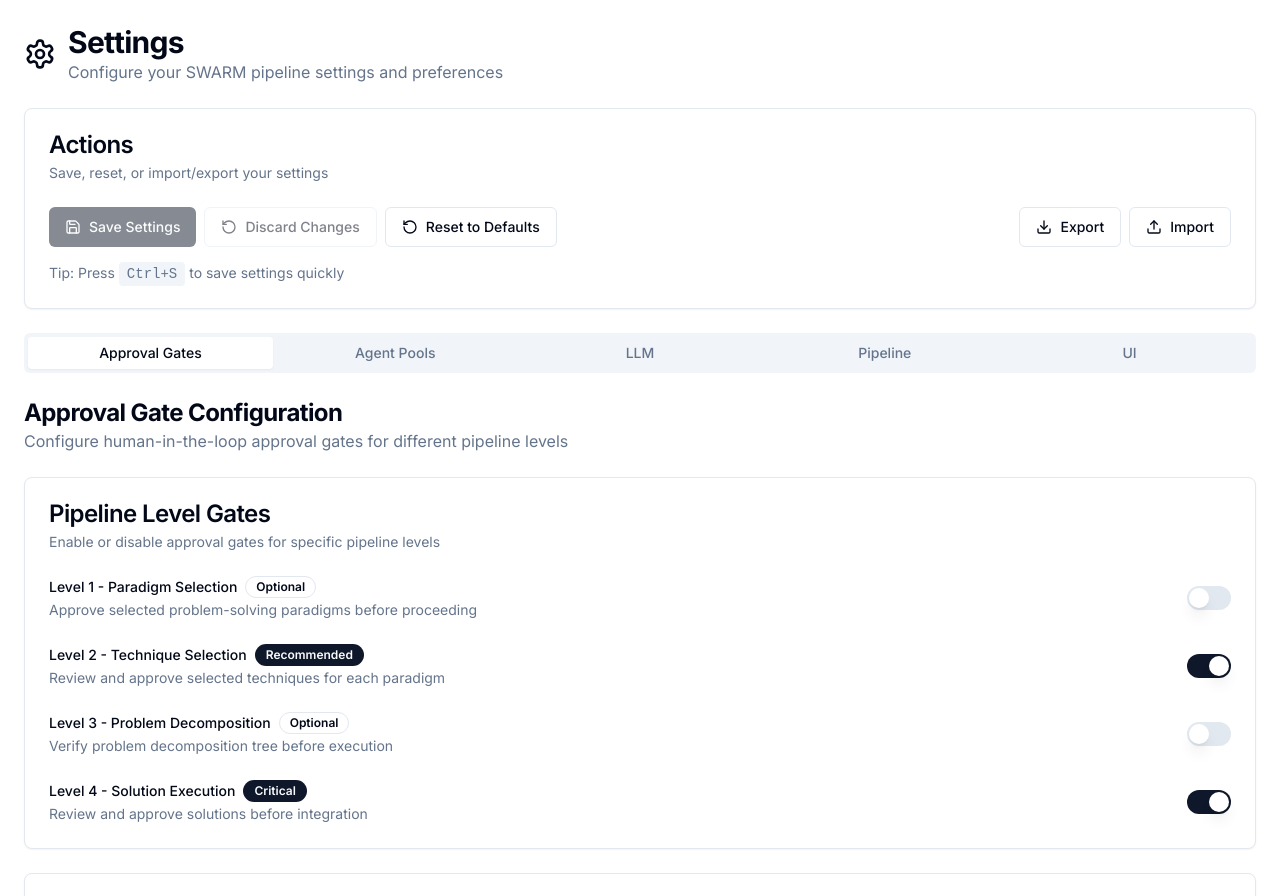
SettingsPanel › SettingsPanel Component › shows reset confirmation dialog
The width and height of the screenshot is (1280, 896).
Click the button "Reset to Defaults" at (471, 227), box [385,207,557,247]
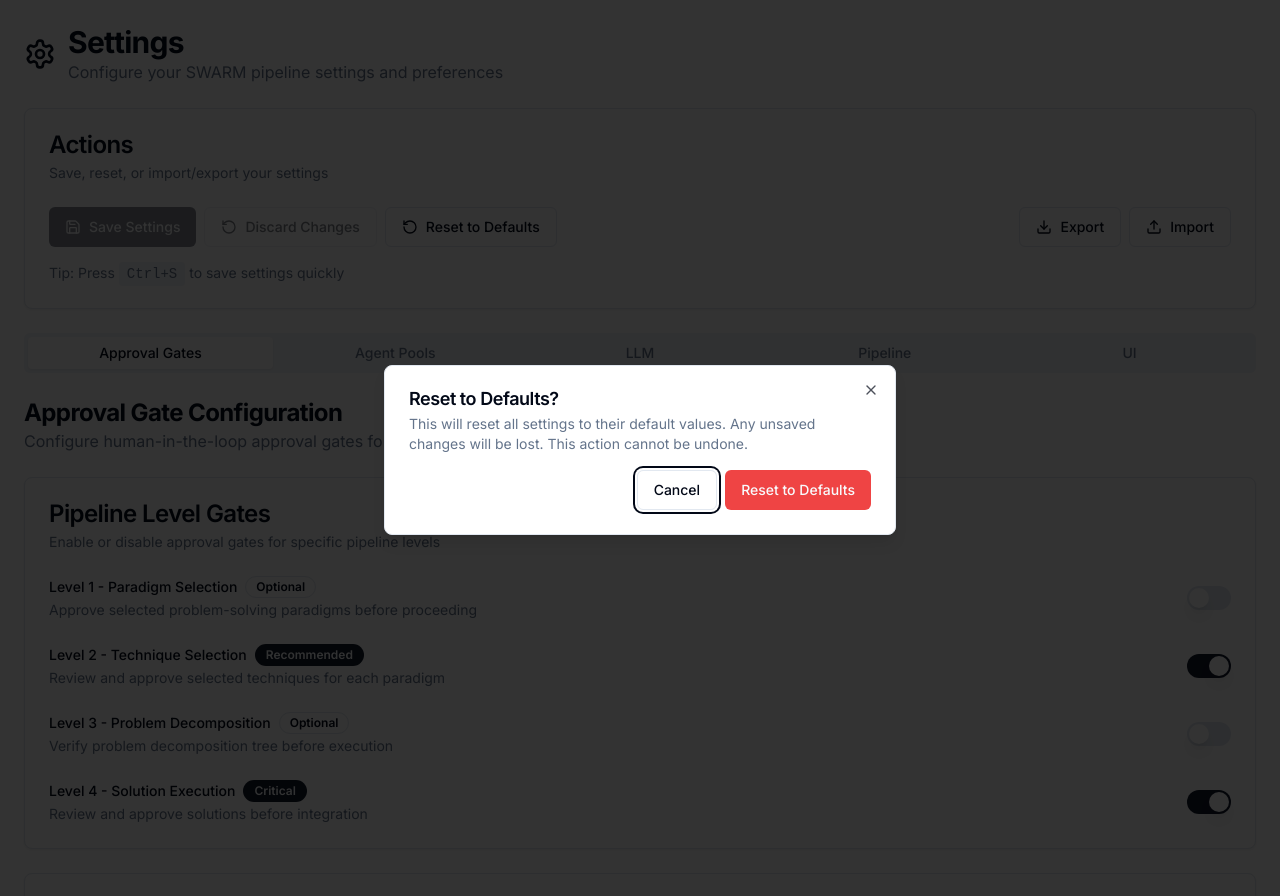
Now the heading "Reset to Defaults?" is shown, box [409,388,559,409]
